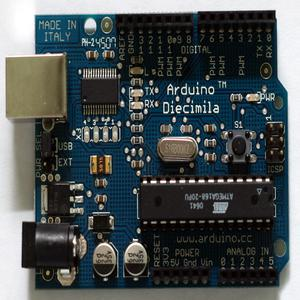duino: (26, 5, 292, 297)
